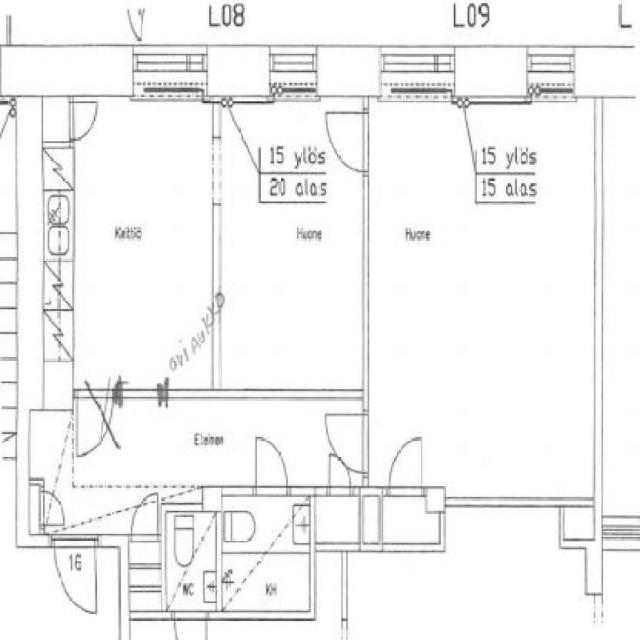door: (52, 534, 103, 621), (324, 106, 374, 180), (323, 412, 369, 476), (252, 434, 291, 504), (389, 429, 425, 502), (77, 391, 115, 452), (28, 480, 69, 531), (128, 495, 158, 540), (68, 98, 99, 140), (328, 452, 354, 497)
window: (381, 46, 454, 100), (132, 44, 206, 96), (268, 43, 318, 99), (528, 48, 574, 98), (601, 520, 640, 551)
zone: (369, 96, 594, 496), (15, 97, 208, 381), (28, 397, 362, 549), (317, 494, 605, 640), (223, 97, 363, 388), (604, 95, 640, 516), (222, 497, 304, 609)
